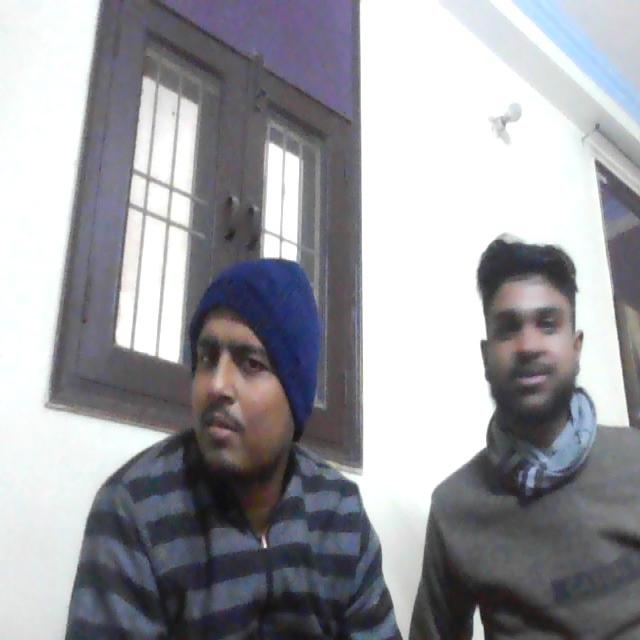real: (181, 257, 307, 495), (473, 216, 590, 437)
